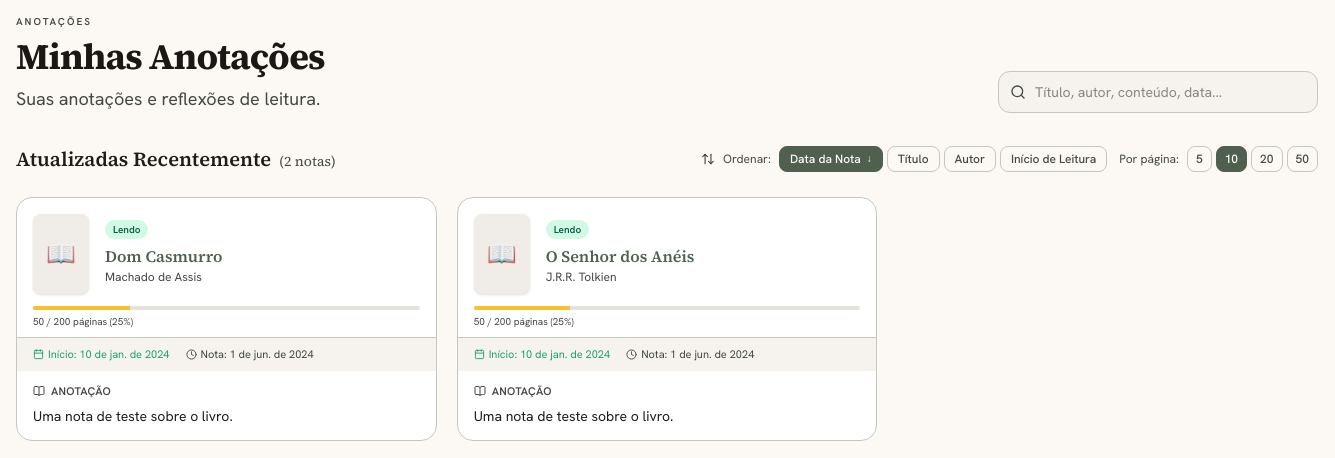
Test: NotesDashboardPage — search filter › filters by author name
In the field with placeholder "Título, autor, conteúdo, data...": coordinates (1158, 92) [998, 71, 1318, 113], type "Tolkien"
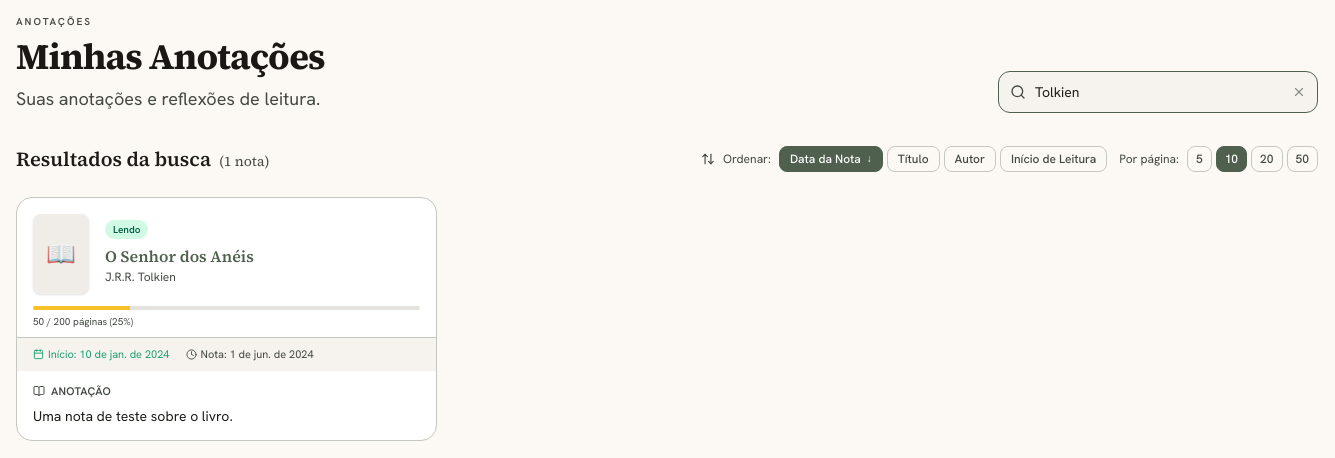
Expected: the heading "O Senhor dos Anéis" is shown, [105, 245, 254, 267]
Expected: the heading "Dom Casmurro" is gone
